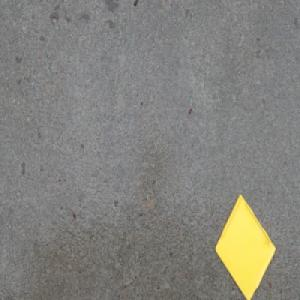PlasticPart: (213, 191, 276, 294)
